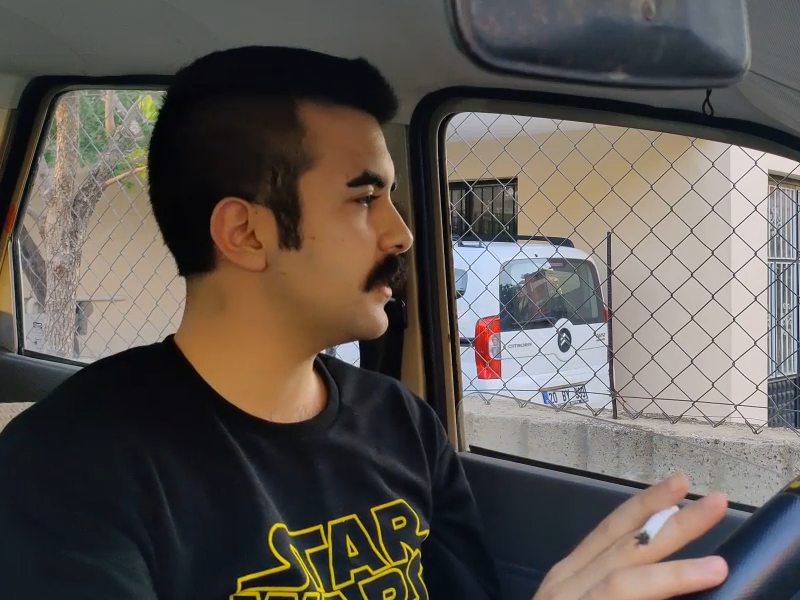sigara: (632, 500, 681, 549)
